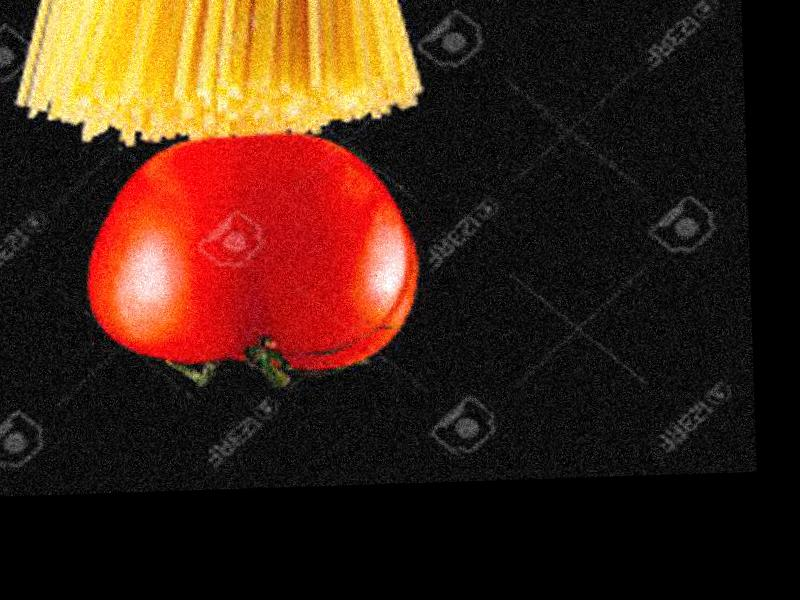Tomato: (84, 128, 415, 378)
